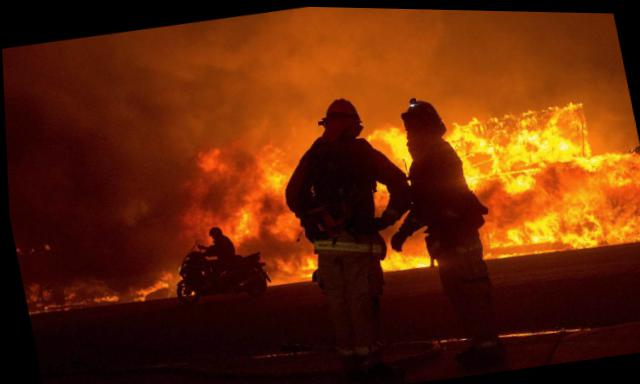fire: (450, 82, 639, 265), (177, 143, 311, 290), (367, 120, 416, 183), (372, 233, 436, 272)
